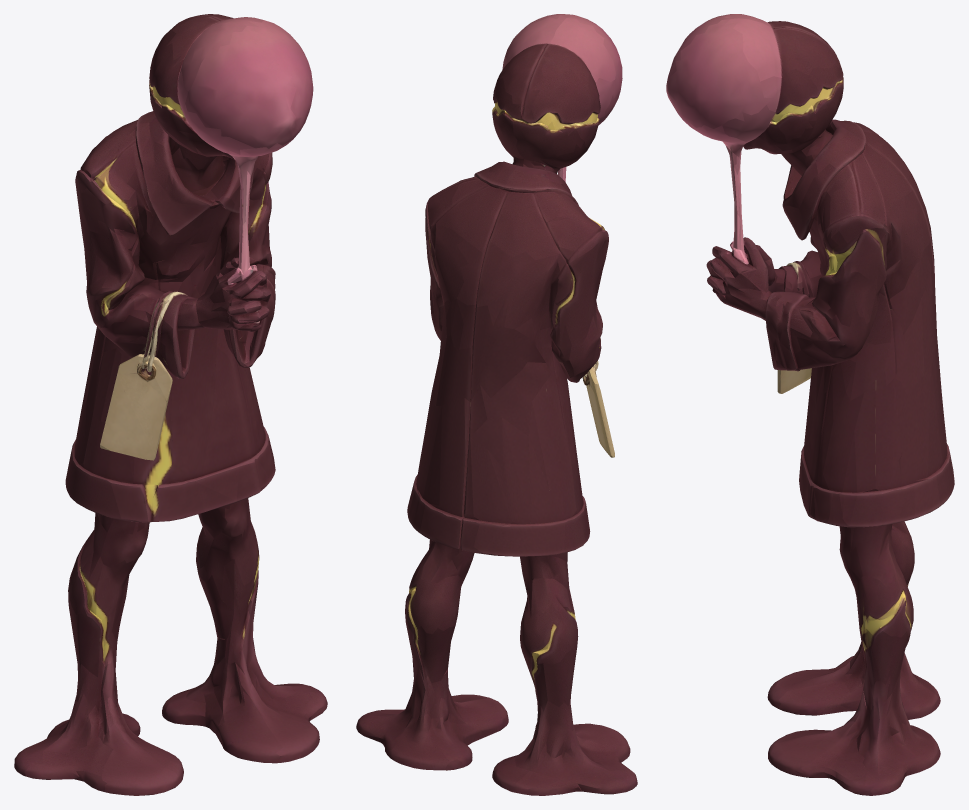
3 renders of one model, left to right at view 1: azimuth 30°, elevation 25°; view 2: azimuth 150°, elevation 25°; view 3: azimuth 270°, elevation 25°, orthographic. The views are drawn at different scales.
Bounding box in the file's own units: 0.7893 × 1.9 × 0.6991.
1 material, 1 textured.
